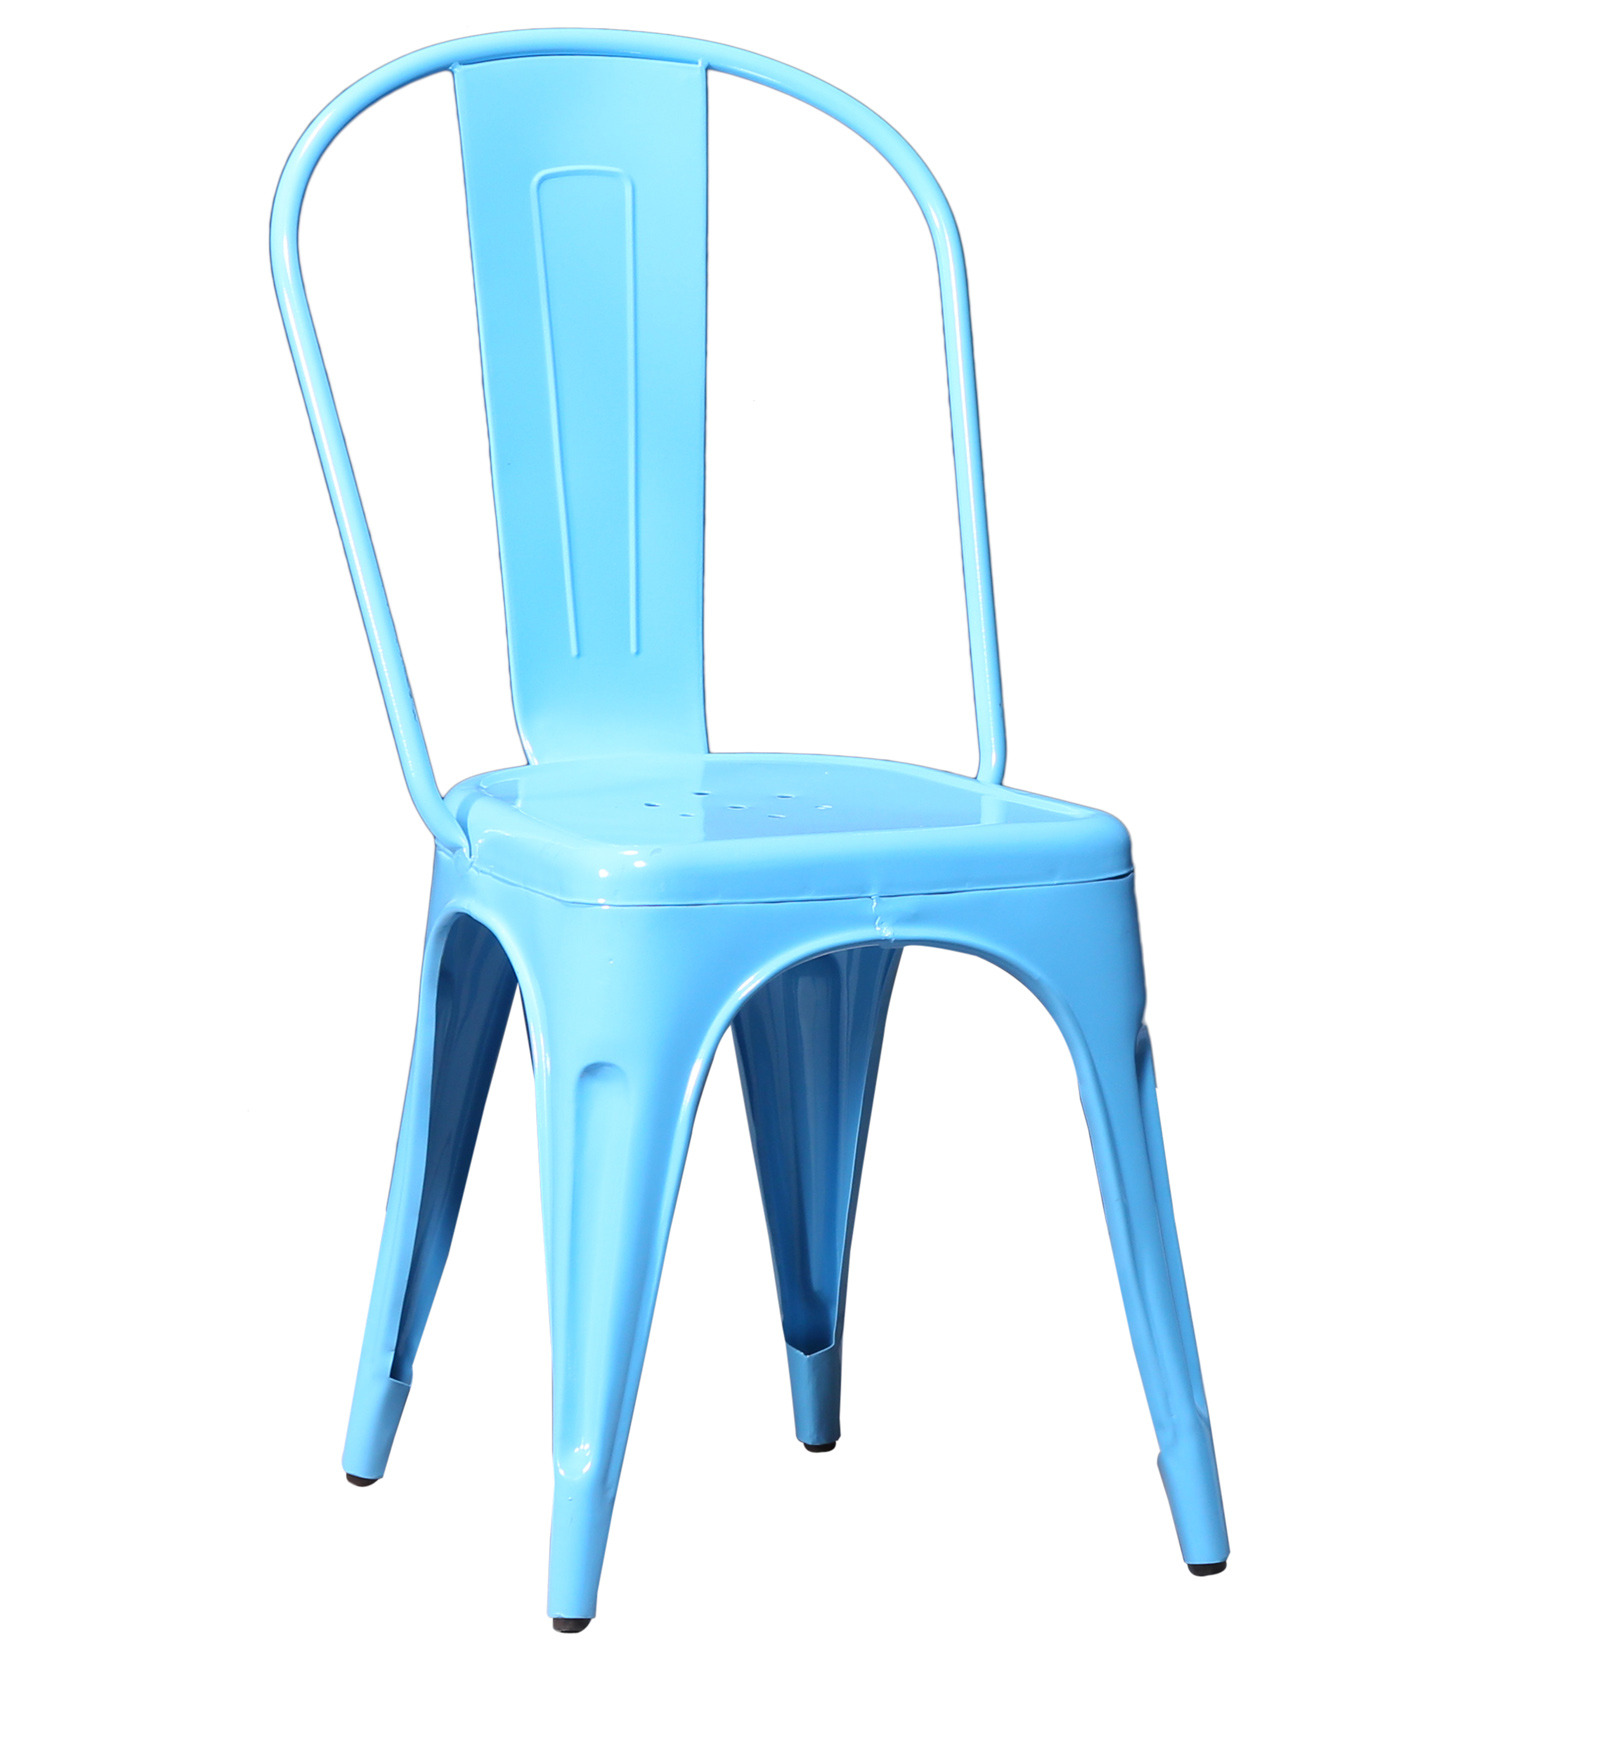Ekati Metal Chair in Blue Color by Bohemiana: (215, 20, 1297, 1660)
